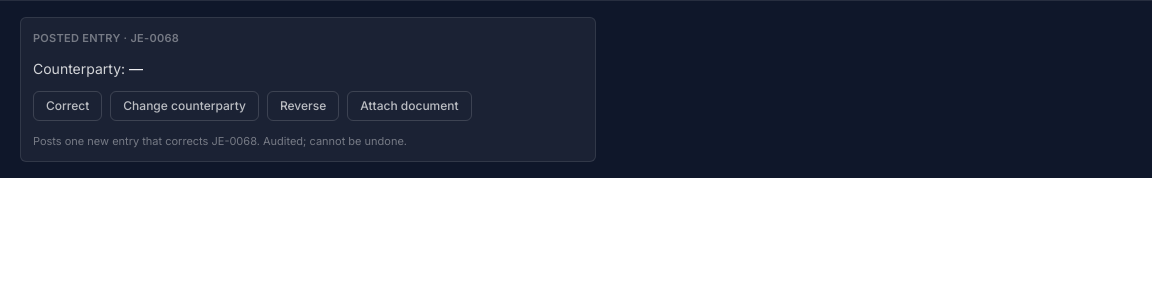
Test: StaffEntryActions — two editors behind their own buttons › opens the correction editor from Correct
What coordinates should you click on to do the following:
click the button "Correct"
I would click on:
 (68, 106)
Its box is [33,90,102,120].
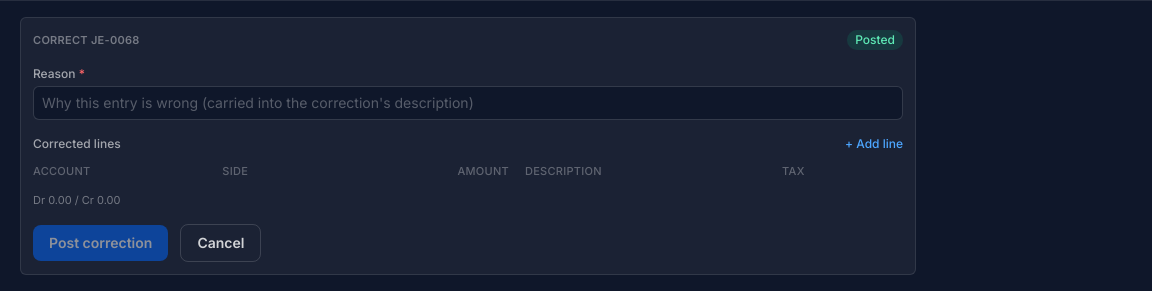
Now the text "Correct JE-0068" is shown, box [33,32,140,48]
Now the button "Change counterparty" is gone
